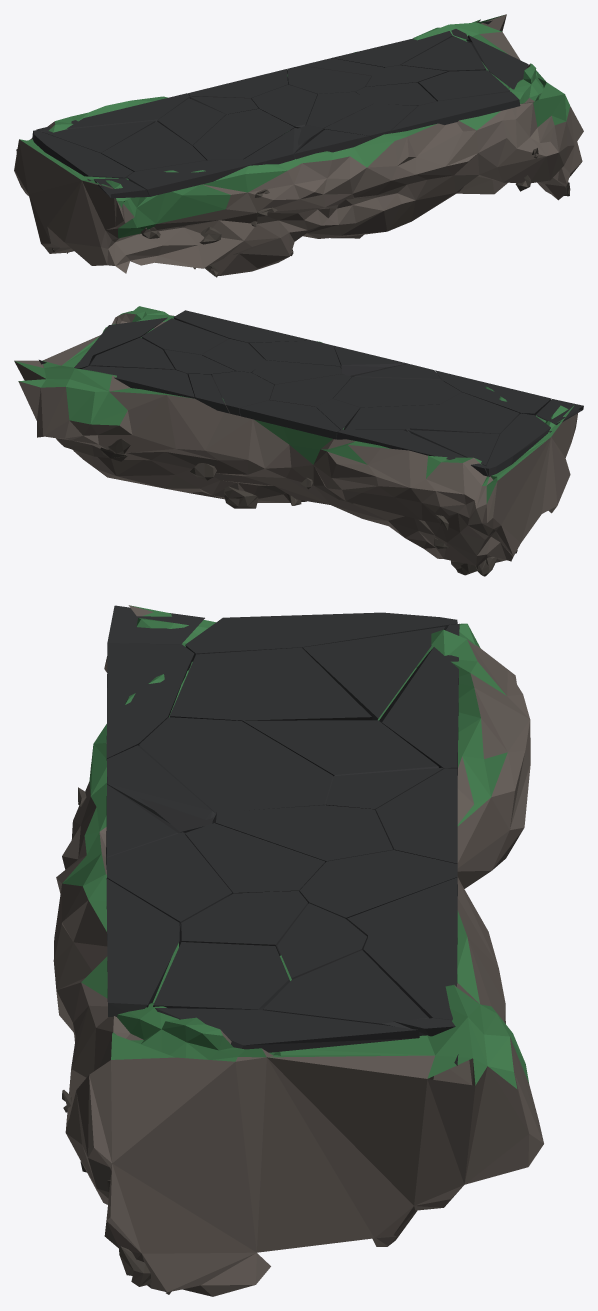
File: road_small.fbx
3 renders of one model, top to bottom at view 1: azimuth 30°, elevation 25°; view 2: azimuth 150°, elevation 25°; view 3: azimuth 270°, elevation 25°, orthographic. The views are drawn at different scales.
Parts seen in each view (by area): view 1: road small; view 2: road small; view 3: road small.
Part boxes in pixels (x1=…): road small: x1=14, y1=14, x2=583, y2=277; road small: x1=14, y1=306, x2=583, y2=576; road small: x1=53, y1=605, x2=543, y2=1296.
Bounding box in the file's own units: 644 × 168 × 279.
